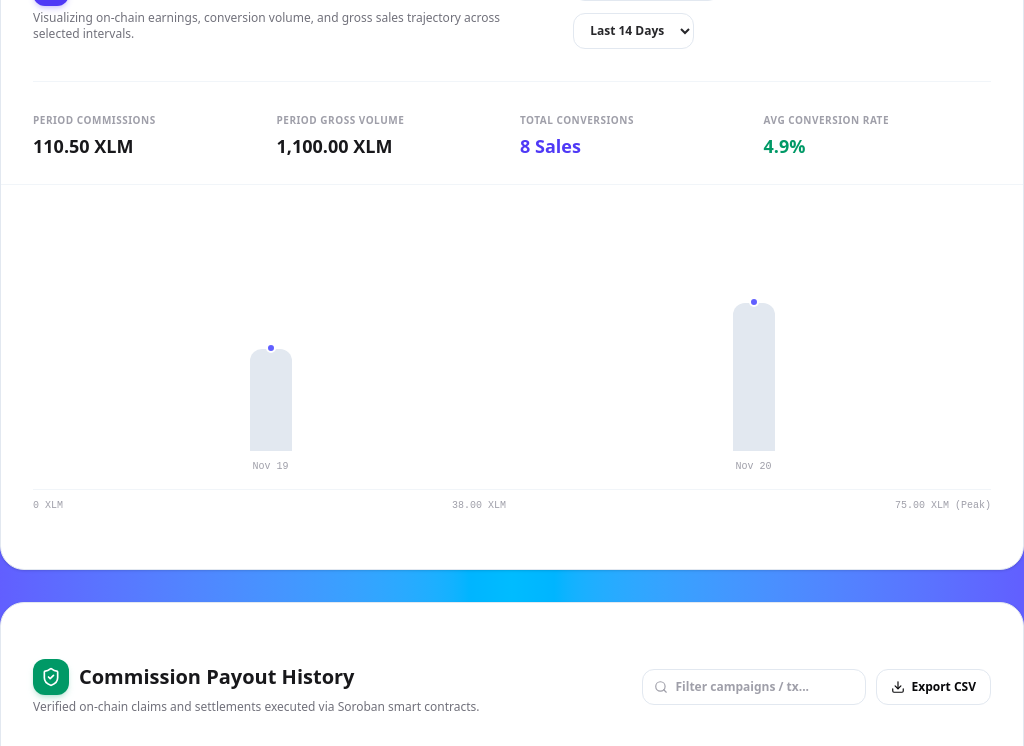
Test: AffiliateEarningsCharts Component (#48) › shows interactive tooltip when hovering or focusing on chart bars
(page scrolled)
Expected: the element with test id "performance-bars-container" is shown, [250,303,774,472]
Hover over the button with aria-label "Nov 20: 65.5 commission" at (754, 387), box [732,303,774,472]
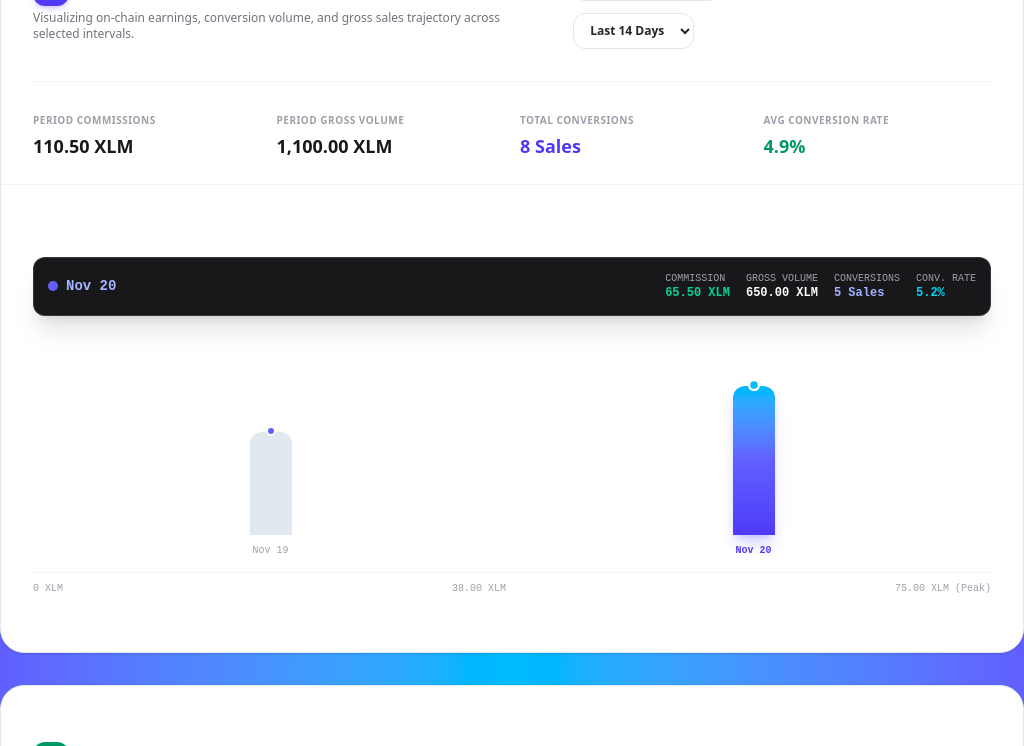
Now the element with test id "interactive-chart-tooltip" shows "Nov 20", box [66,278,116,294]
Now the element with test id "interactive-chart-tooltip" shows "65.50 XLM", box [665,286,730,300]
Now the element with test id "interactive-chart-tooltip" shows "5 Sales", box [33,256,991,316]
Move the pointer off the button with aria-label "Nov 20: 65.5 commission", box [732,386,774,556]
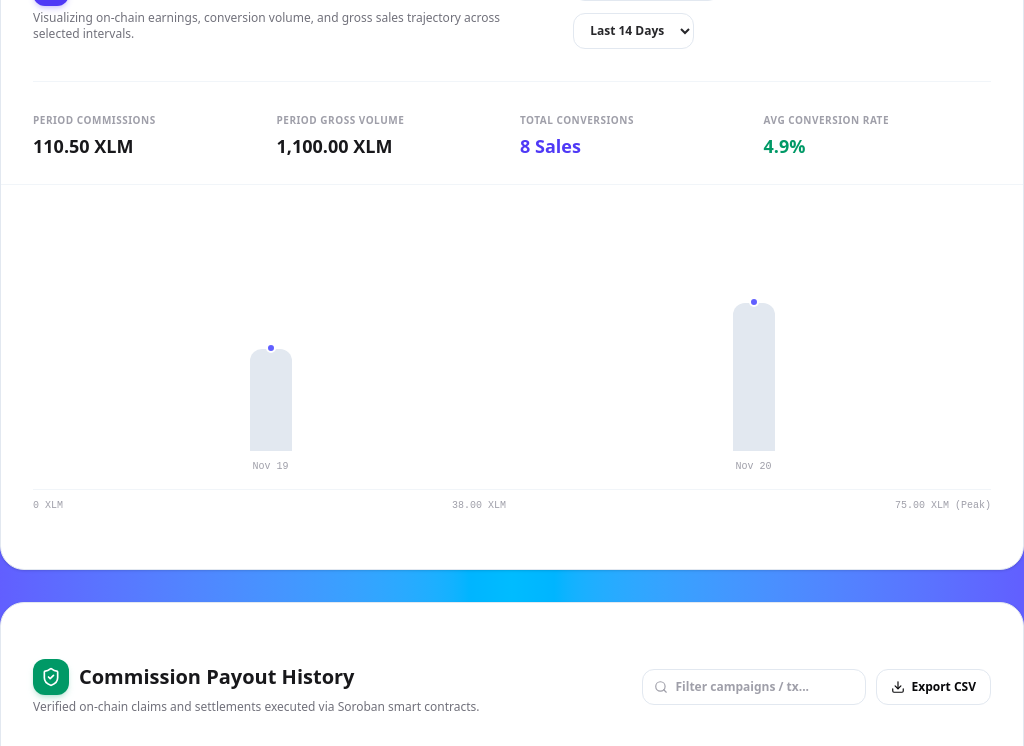
Now the element with test id "interactive-chart-tooltip" is gone
